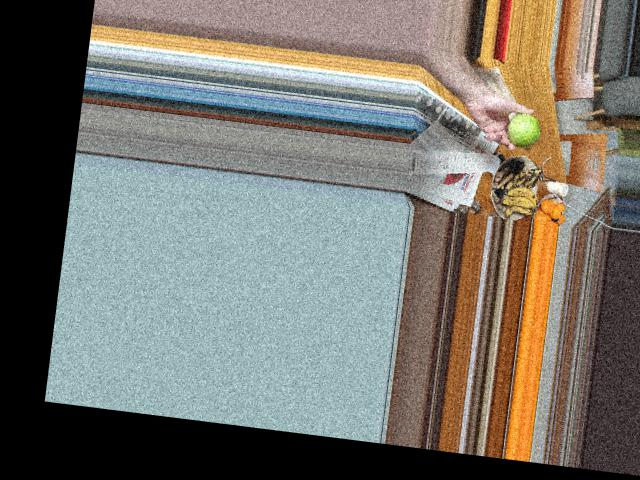apple: (501, 111, 544, 151)
